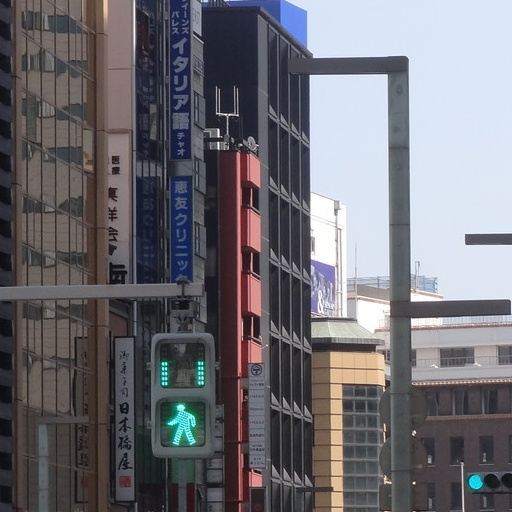Pedestrian_Signal_Blue: (141, 328, 218, 456)
